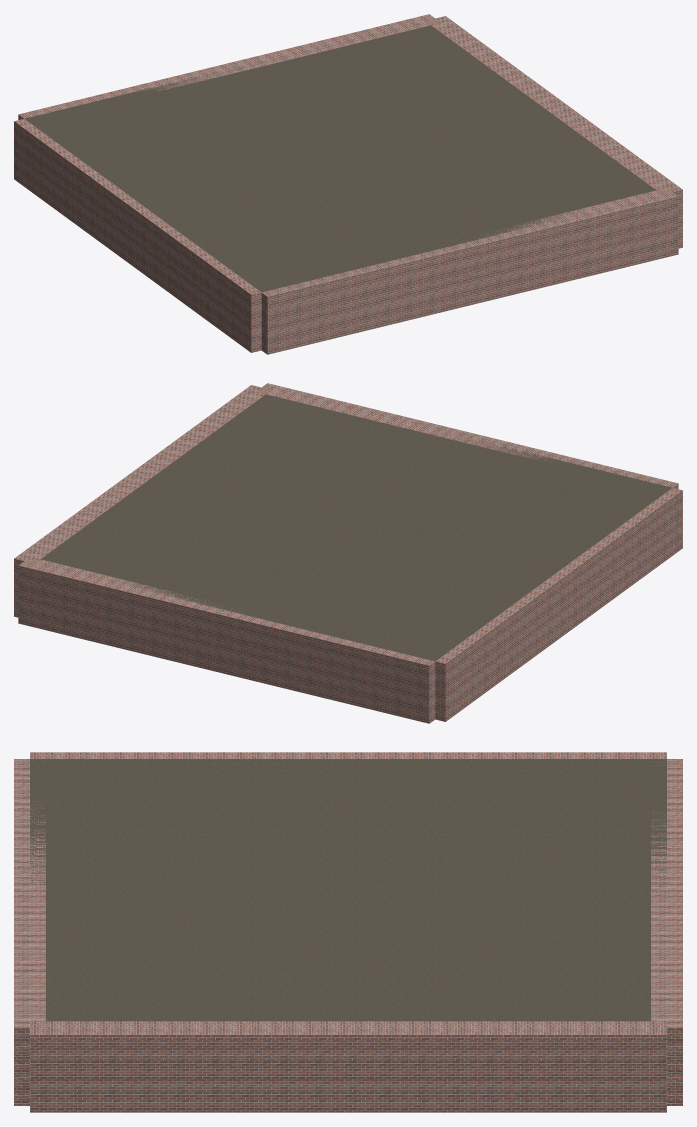
The picture shows the model from 3 angles, top to bottom: view 1: azimuth 30°, elevation 25°; view 2: azimuth 150°, elevation 25°; view 3: azimuth 270°, elevation 25°; orthographic projection. The views are drawn at different scales.
Visible parts, largest first — view 1: Ceil, Cube.002, Cube.001, Cube, Cube.003; view 2: Ceil, Cube.003, Cube.001, Cube, Cube.002; view 3: Ceil, Cube, Cube.002, Cube.003, Cube.001.
Boxes of the visible parts, x1,y1,x2,y2 form: Ceil: (24,25,655,292); Cube.002: (261,190,678,354); Cube.001: (14,119,261,352); Cube: (426,16,682,248); Cube.003: (18,14,440,119); Ceil: (41,394,672,661); Cube.003: (18,559,435,723); Cube.001: (435,488,682,721); Cube: (14,385,271,617); Cube.002: (256,383,678,488); Ceil: (30,759,666,1021); Cube: (30,1021,666,1112); Cube.002: (14,759,45,1105); Cube.003: (651,759,682,1105); Cube.001: (30,752,666,765).
Size of the model in its own units: 19.47 by 2.5 by 19.47.
Materials: 3 (3 with a texture image).
